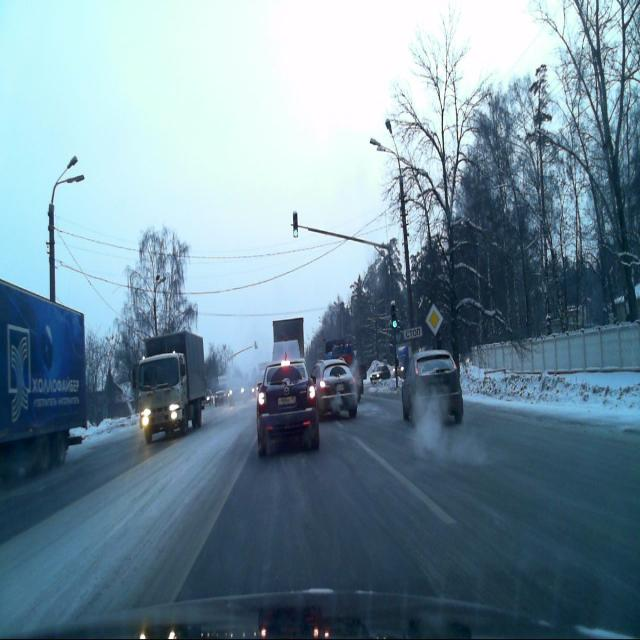object: (403, 325, 423, 341)
road sign: (426, 304, 442, 334)
